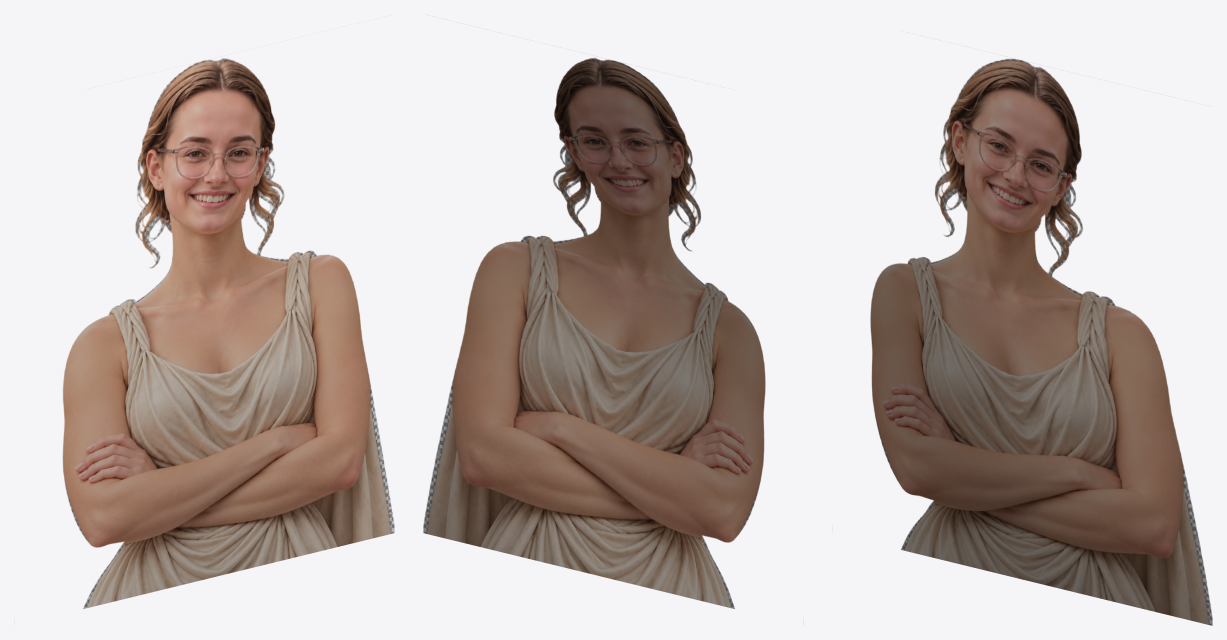
Rendered from stefanos-statue-colorida.glb.
3 renders of one model, left to right at view 1: azimuth 30°, elevation 25°; view 2: azimuth 150°, elevation 25°; view 3: azimuth 330°, elevation 25°, orthographic.
Visible parts, largest first — view 1: body; view 2: body; view 3: body.
Boxes of the visible parts, x1=… form: body: x1=62, y1=58, x2=394, y2=608; body: x1=423, y1=58, x2=765, y2=608; body: x1=870, y1=58, x2=1212, y2=625.
Bounding box in the file's own units: 0.7357 × 0.96 × 0.051.
1 material, 1 textured.
